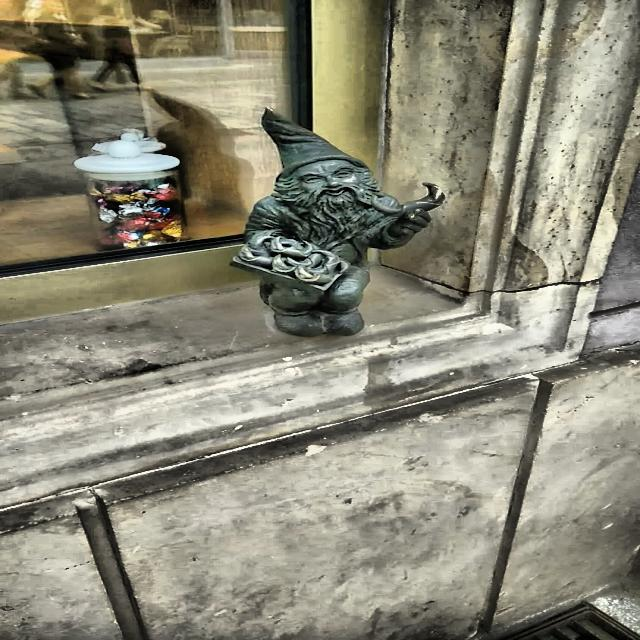Rogalik: (234, 111, 442, 337)
